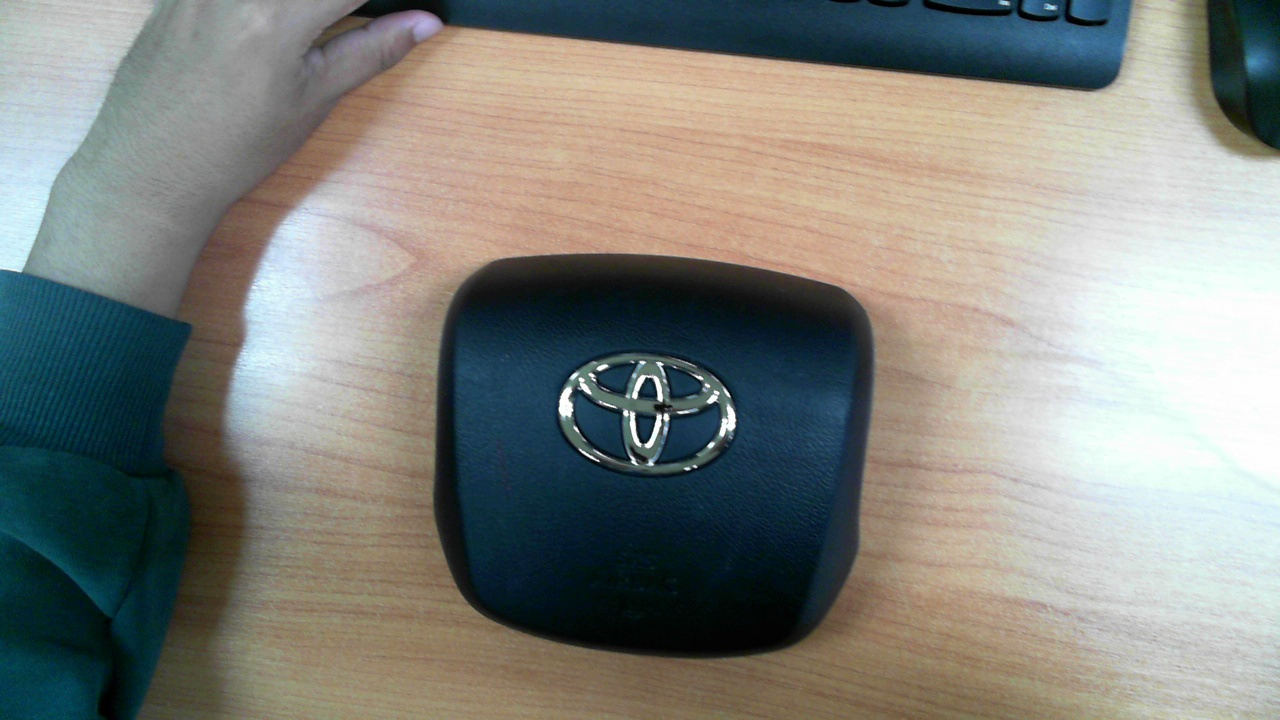Airbag: (432, 253, 876, 660)
Toyota: (557, 353, 738, 475)
